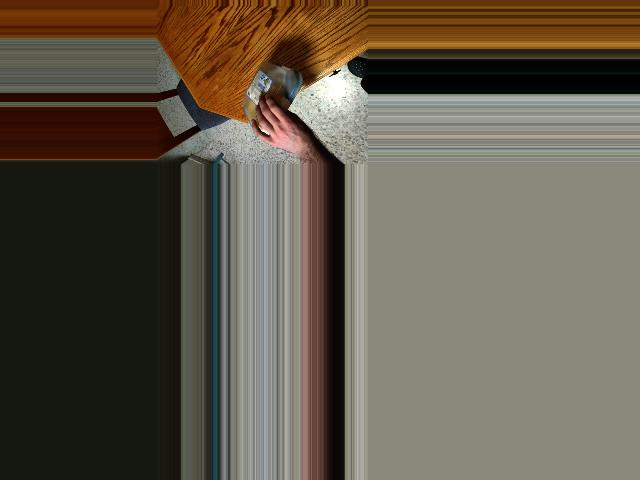cheese: (245, 67, 285, 124)
